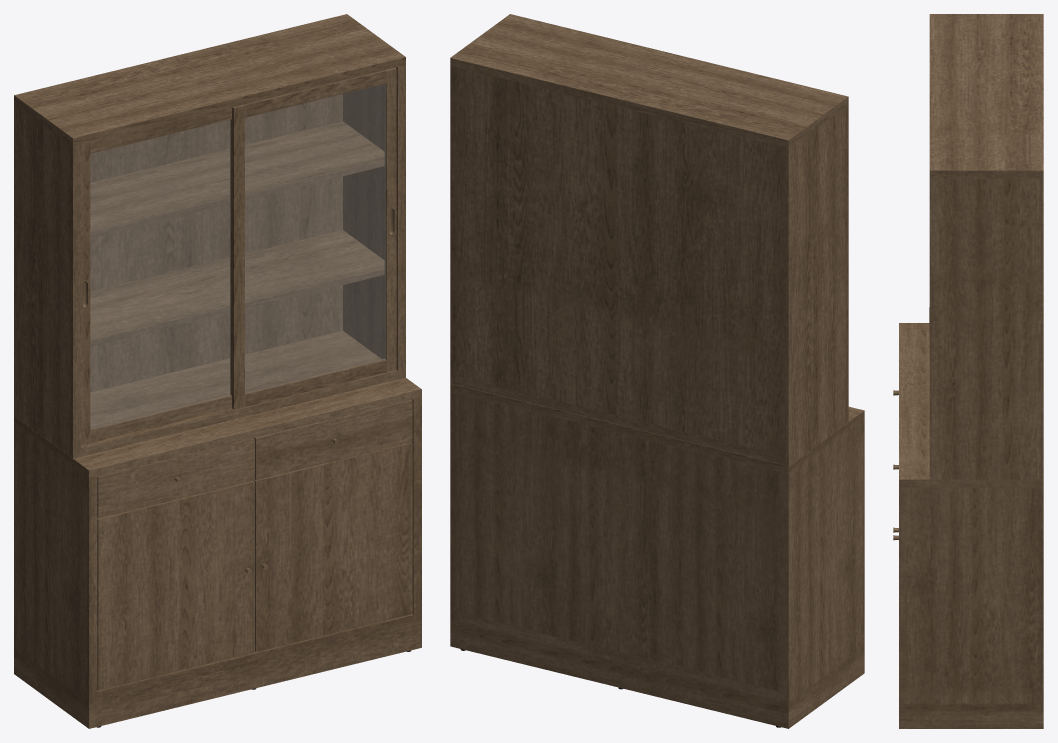
The model's file is 14 - TONSTAD Storage comb w sliding glass doors - brown stained oak veneerclear glass 121x47x201 cm.glb.
3 views of the same model, side by side, from view 1: azimuth 30°, elevation 25°; view 2: azimuth 150°, elevation 25°; view 3: azimuth 270°, elevation 25° (orthographic). The views are drawn at different scales.
Parts seen in each view (by area): view 1: Mesh_0, Mesh_1; view 2: Mesh_0; view 3: Mesh_0.
Boxes of the visible parts, left/top/right/bottom form: Mesh_0: left=14, top=14, right=421, bottom=728; Mesh_1: left=90, top=84, right=385, bottom=428; Mesh_0: left=450, top=14, right=864, bottom=728; Mesh_0: left=893, top=14, right=1043, bottom=728.
Size of the model in its own units: 1.21 by 2.01 by 0.488.
Materials: 2 (2 with a texture image).
